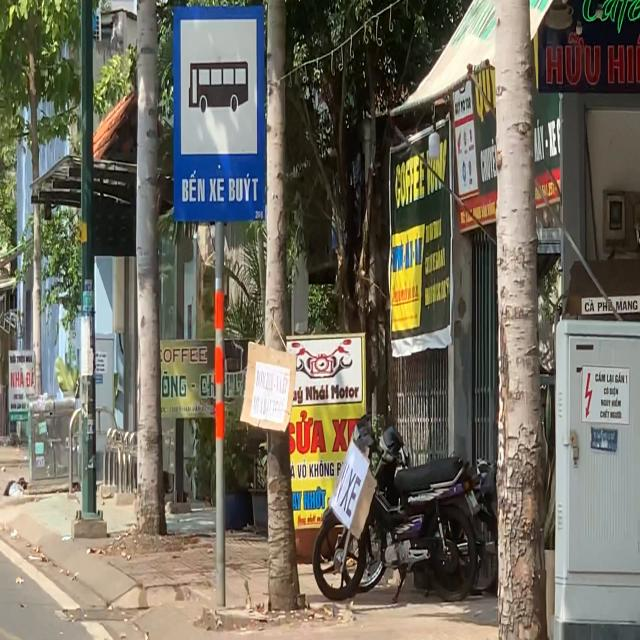Ben xe buyt: (172, 3, 266, 226)
